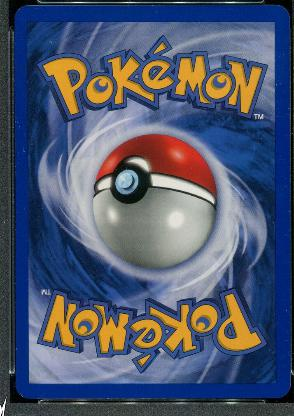Card: (11, 1, 291, 404)
Corner Wear: (12, 6, 19, 18)
Scratch: (272, 320, 279, 328), (36, 392, 45, 398), (279, 363, 286, 369), (285, 351, 289, 357), (15, 118, 19, 124), (19, 393, 23, 397), (252, 146, 256, 150), (285, 113, 289, 116), (22, 146, 24, 152), (16, 152, 19, 156), (15, 347, 17, 351), (268, 116, 279, 116)
